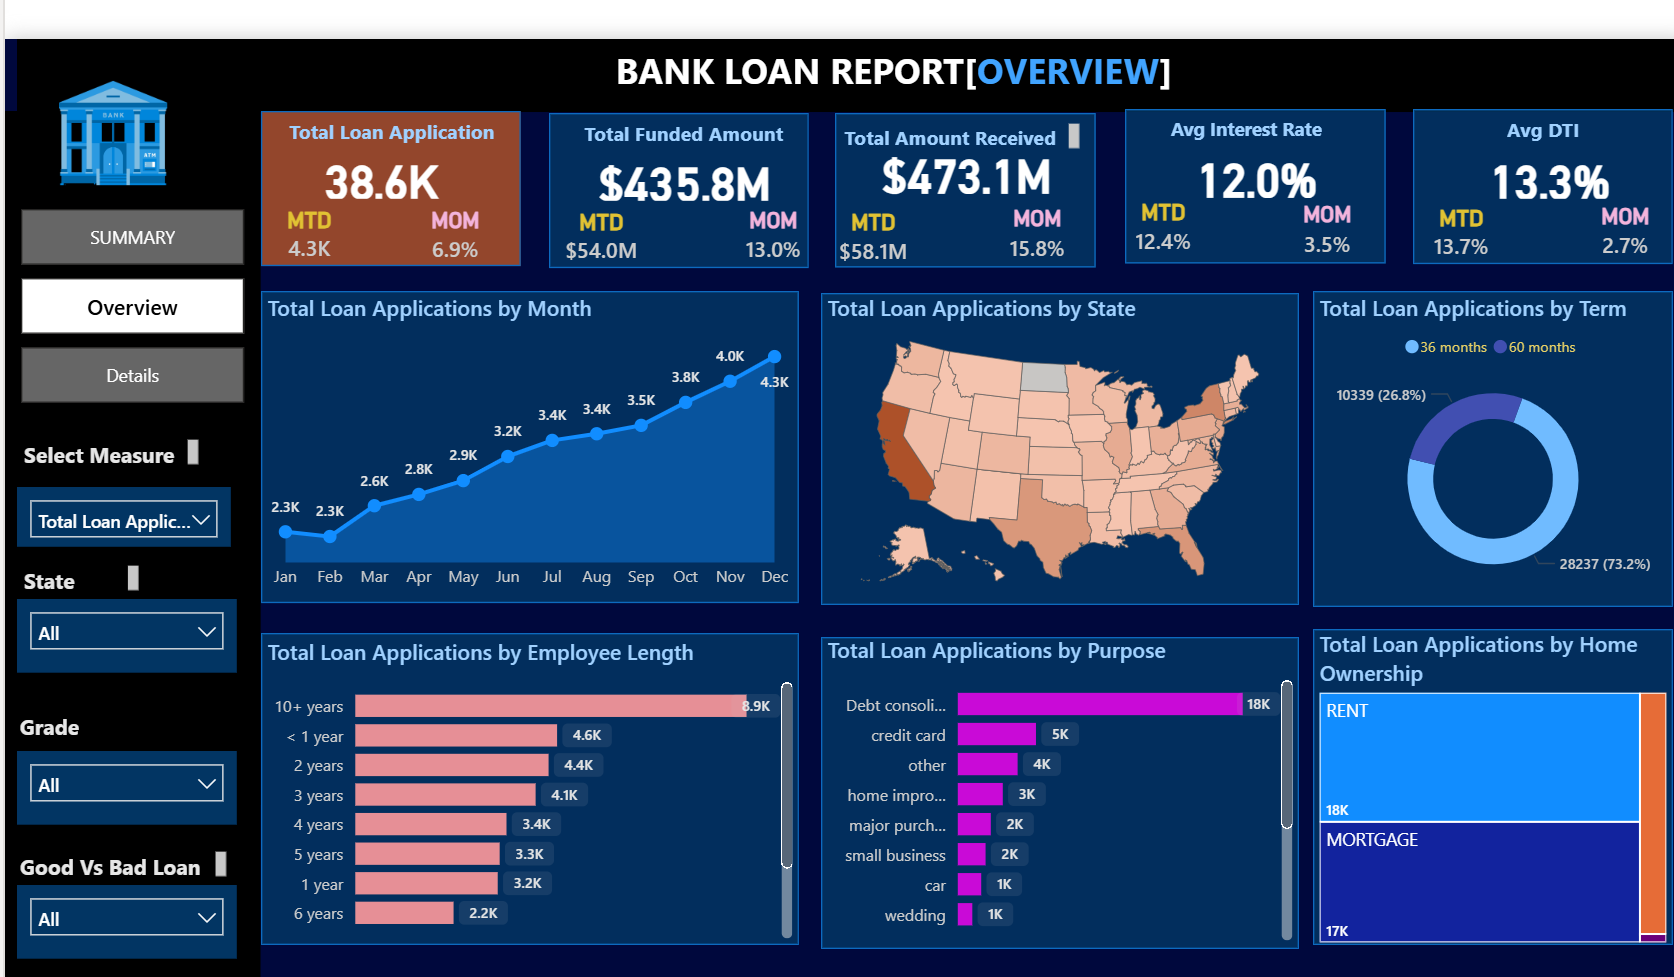

This screenshot's page, from the dashboard's own definition file:
{"tool":"powerbi","page":{"name":"Overview","canvas":[1271,711],"ordinal":1},"visuals":[{"type":"shape","box":[9.5,0,1270.5,55],"z":0},{"type":"shape","box":[0,54.6,192.6,746.2],"z":1000},{"type":"shape","box":[192.6,54.6,195.6,116.8],"z":2000},{"type":"textbox","box":[455,0,447.4,50],"z":3000},{"type":"card","fields":{"Values":["bank_loan_data.Total Loan Applications"]},"box":[227.5,84.9,112.2,40.9],"z":4000},{"type":"textbox","box":[192.6,54.6,197.2,30.3],"z":5000},{"type":"card","title":"MTD","fields":{"Values":["bank_loan_data.MTD Loan Applications"]},"box":[192.6,125.9,72.8,45.5],"z":6000},{"type":"card","title":"MOM","fields":{"Values":["bank_loan_data.MOM Loan Applications"]},"box":[303.3,125.9,72.8,44],"z":7000},{"type":"shape","box":[409.1,56.1,195.6,116.8],"z":8000},{"type":"card","fields":{"Values":["bank_loan_data.Total Funded Amount"]},"box":[441.3,86.4,141,40.9],"z":9000},{"type":"textbox","box":[412.5,56.1,197.2,30.3],"z":10000},{"type":"card","title":"MTD","fields":{"Values":["bank_loan_data.MTD Funded Applications Amount"]},"box":[412.5,127.4,72.8,45.5],"z":11000},{"type":"card","title":"MOM","fields":{"Values":["bank_loan_data.MOM Total Funded Amount"]},"box":[541.4,125.9,72.8,44],"z":12000},{"type":"shape","box":[625.6,55.3,196.3,116.3],"z":13000},{"type":"textbox","box":[618,58.2,196.3,29.1],"z":14000},{"type":"card","title":"MTD","fields":{"Values":["bank_loan_data.MTD Total Amount Received"]},"box":[618,128,72.7,45.1],"z":15000},{"type":"card","title":"MOM","fields":{"Values":["bank_loan_data.MOM Total Amount Recevied"]},"box":[741.6,125,72.7,43.6],"z":16000},{"type":"shape","box":[842.7,52.3,196.3,116.3],"z":17000},{"type":"card","fields":{"Values":["bank_loan_data.Avg Interest Rate"]},"box":[872.4,82.9,141,42.2],"z":18000},{"type":"textbox","title":"Avg Interest Rate","box":[836.1,52.3,197.7,29.1],"z":19000},{"type":"card","title":"MTD","fields":{"Values":["bank_loan_data.MTD Avg Interest Rate"]},"box":[836.1,120.7,72.7,45.1],"z":20000},{"type":"card","title":"MOM","fields":{"Values":["bank_loan_data.MOM Avg Interest Rate"]},"box":[959.7,122.1,72.7,43.6],"z":21000},{"type":"card","fields":{"Values":["bank_loan_data.Total Amount Received"]},"box":[654.3,80,141,42.2],"z":22000},{"type":"shape","box":[1059.9,52.4,195.6,116.8],"z":23000},{"type":"card","fields":{"Values":["bank_loan_data.Avg DTI"]},"box":[1107.5,83.9,112.3,41.1],"z":24000},{"type":"textbox","box":[1060.1,52.2,196.2,30.1],"z":25000},{"type":"card","title":"MTD","fields":{"Values":["bank_loan_data.MTD Avg DTI"]},"box":[1060.1,125,72.8,45.9],"z":26000},{"type":"card","title":"MOM","fields":{"Values":["bank_loan_data.MOM Avg DTI"]},"box":[1183.5,123.4,72.8,44.3],"z":27000},{"type":"shape","box":[192.8,189.7,405,235],"z":28000},{"type":"slicer","fields":{"Values":["bank_loan_data.address_state"]},"box":[9.8,420.9,165.7,55.7],"z":29000},{"type":"textbox","box":[9.8,390.8,96.4,30.1],"z":30000},{"type":"slicer","fields":{"Values":["bank_loan_data.grade"]},"box":[9.8,535.4,165.7,55.7],"z":31000},{"type":"textbox","box":[5.3,500.7,87.3,34.6],"z":32000},{"type":"slicer","fields":{"Values":["bank_loan_data.purpose"]},"box":[9.8,636.3,165.7,55.7],"z":33000},{"type":"textbox","box":[5.3,606.1,165.7,30.1],"z":34000},{"type":"areaChart","fields":{"Y":["bank_loan_data.Total Loan Applications"],"Category":["Date Table.Month"]},"box":[192.8,191.3,405.1,231.9],"z":35000},{"type":"slicer","fields":{"Values":["Select Measure.Select Measure"]},"box":[9.8,336.6,161.1,45.2],"z":36000},{"type":"textbox","box":[9.8,295.9,141.6,30.1],"z":37000},{"type":"shape","box":[614.4,191.3,359.9,234.9],"z":38000},{"type":"shapeMap","fields":{"Value":["bank_loan_data.Total Loan Applications"],"Category":["bank_loan_data.address_state"]},"box":[614.4,191.3,359.9,231.9],"z":39000},{"type":"shape","box":[984.9,189.7,271.1,237.9],"z":40000},{"type":"donutChart","fields":{"Y":["bank_loan_data.Total Loan Applications"],"Category":["bank_loan_data.term"]},"box":[984.9,191.3,271.1,231.9],"z":41000},{"type":"shape","box":[192.8,447.3,405.1,234.9],"z":42000},{"type":"barChart","fields":{"Y":["bank_loan_data.Total Loan Applications"],"Category":["bank_loan_data.emp_length"]},"box":[192.8,450.3,405.1,231.9],"z":43000},{"type":"shape","box":[614.4,450.3,359.9,234.9],"z":44000},{"type":"barChart","fields":{"Y":["bank_loan_data.Total Loan Applications"],"Category":["bank_loan_data.purpose"]},"box":[614.4,448.8,359.9,234.9],"z":45000},{"type":"shape","box":[984.9,444.2,271.1,237.9],"z":46000},{"type":"treemap","fields":{"Values":["bank_loan_data.Total Loan Applications"],"Group":["bank_loan_data.home_ownership"]},"box":[984.9,444.2,271.1,240.9],"z":47000},{"type":"pageNavigator","box":[12,128,168.7,146.1],"z":47001},{"type":"image","box":[40.7,19.6,81.3,102.4],"z":47002}]}

Visuals, with their boxes on the page's 1271x711 design canvas (x1, y1, x2, y2). These are canvas units, not pixel positions in the 1674x977 screenshot, which may show the page scaled, cropped or inside an application window:
shape: select_region(10, 0, 1280, 55)
shape: select_region(0, 55, 193, 801)
shape: select_region(193, 55, 388, 171)
textbox: select_region(455, 0, 902, 50)
card - bank_loan_data.Total Loan Applications: select_region(228, 85, 340, 126)
textbox: select_region(193, 55, 390, 85)
"MTD" card: select_region(193, 126, 265, 171)
"MOM" card: select_region(303, 126, 376, 170)
shape: select_region(409, 56, 605, 173)
card - bank_loan_data.Total Funded Amount: select_region(441, 86, 582, 127)
textbox: select_region(412, 56, 610, 86)
"MTD" card: select_region(412, 127, 485, 173)
"MOM" card: select_region(541, 126, 614, 170)
shape: select_region(626, 55, 822, 172)
textbox: select_region(618, 58, 814, 87)
"MTD" card: select_region(618, 128, 691, 173)
"MOM" card: select_region(742, 125, 814, 169)
shape: select_region(843, 52, 1039, 169)
card - bank_loan_data.Avg Interest Rate: select_region(872, 83, 1013, 125)
"Avg Interest Rate" textbox: select_region(836, 52, 1034, 81)
"MTD" card: select_region(836, 121, 909, 166)
"MOM" card: select_region(960, 122, 1032, 166)
card - bank_loan_data.Total Amount Received: select_region(654, 80, 795, 122)
shape: select_region(1060, 52, 1256, 169)
card - bank_loan_data.Avg DTI: select_region(1108, 84, 1220, 125)
textbox: select_region(1060, 52, 1256, 82)
"MTD" card: select_region(1060, 125, 1133, 171)
"MOM" card: select_region(1184, 123, 1256, 168)
shape: select_region(193, 190, 598, 425)
slicer - bank_loan_data.address_state: select_region(10, 421, 176, 477)
textbox: select_region(10, 391, 106, 421)
slicer - bank_loan_data.grade: select_region(10, 535, 176, 591)
textbox: select_region(5, 501, 93, 535)
slicer - bank_loan_data.purpose: select_region(10, 636, 176, 692)
textbox: select_region(5, 606, 171, 636)
areaChart - bank_loan_data.Total Loan Applications x Date Table.Month: select_region(193, 191, 598, 423)
slicer - Select Measure.Select Measure: select_region(10, 337, 171, 382)
textbox: select_region(10, 296, 151, 326)
shape: select_region(614, 191, 974, 426)
shapeMap - bank_loan_data.Total Loan Applications x bank_loan_data.address_state: select_region(614, 191, 974, 423)
shape: select_region(985, 190, 1256, 428)
donutChart - bank_loan_data.Total Loan Applications x bank_loan_data.term: select_region(985, 191, 1256, 423)
shape: select_region(193, 447, 598, 682)
barChart - bank_loan_data.Total Loan Applications x bank_loan_data.emp_length: select_region(193, 450, 598, 682)
shape: select_region(614, 450, 974, 685)
barChart - bank_loan_data.Total Loan Applications x bank_loan_data.purpose: select_region(614, 449, 974, 684)
shape: select_region(985, 444, 1256, 682)
treemap - bank_loan_data.Total Loan Applications x bank_loan_data.home_ownership: select_region(985, 444, 1256, 685)
pageNavigator: select_region(12, 128, 181, 274)
image: select_region(41, 20, 122, 122)
